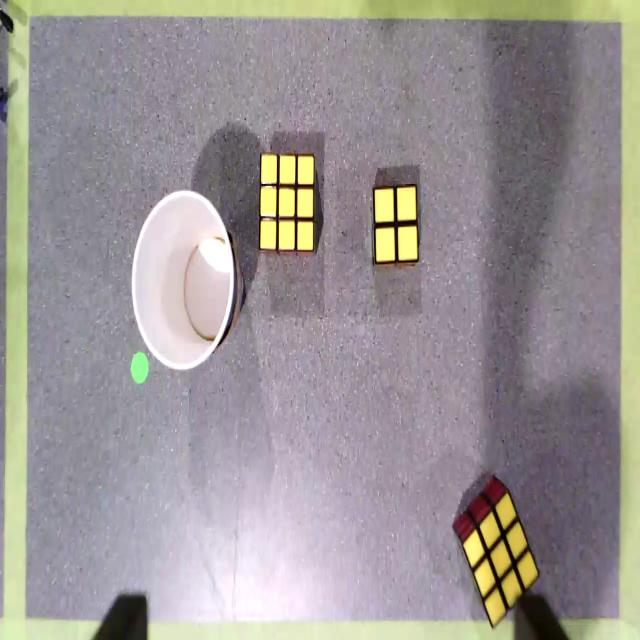cube2-yellow: (373, 184, 419, 263)
cube3-yellow: (463, 488, 539, 627), (260, 151, 314, 250)
